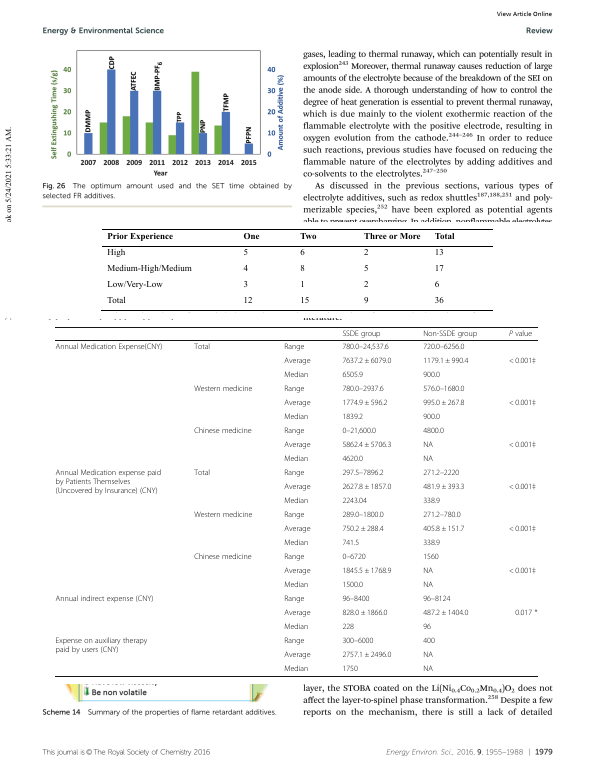borderless: (54, 325, 538, 676), (101, 227, 493, 310)
cell: (55, 468, 162, 496), (55, 636, 148, 655), (55, 342, 163, 352), (55, 594, 154, 604), (106, 264, 192, 274), (106, 231, 173, 241), (193, 384, 253, 394), (193, 510, 253, 520), (362, 231, 421, 241), (193, 426, 252, 436), (193, 552, 252, 562), (106, 280, 163, 290), (341, 356, 392, 366), (341, 440, 392, 450), (341, 482, 392, 492), (341, 566, 392, 576), (341, 650, 392, 660), (422, 329, 478, 338), (341, 342, 390, 352), (422, 356, 469, 366), (341, 398, 388, 408), (341, 608, 388, 618), (422, 608, 469, 618), (341, 524, 385, 534), (422, 342, 465, 352), (341, 384, 384, 394), (422, 384, 465, 394), (422, 398, 465, 408), (341, 468, 384, 478), (422, 482, 465, 492), (341, 510, 384, 520), (422, 524, 465, 534), (422, 510, 461, 520), (422, 468, 460, 478), (341, 329, 381, 338), (341, 426, 377, 436), (341, 636, 374, 646), (508, 356, 537, 366), (508, 398, 537, 408), (508, 440, 537, 450), (508, 482, 537, 492), (508, 524, 537, 534), (508, 566, 537, 576), (341, 594, 370, 604), (422, 594, 451, 604), (283, 356, 311, 366), (283, 398, 311, 408), (283, 440, 311, 450), (283, 482, 311, 492), (283, 524, 311, 534), (283, 566, 311, 576), (283, 608, 311, 618), (283, 650, 311, 660), (341, 496, 368, 506), (283, 370, 309, 380), (283, 412, 309, 422), (283, 454, 309, 464), (283, 496, 309, 506), (283, 538, 309, 548), (341, 552, 367, 562), (283, 580, 309, 590), (283, 622, 309, 632), (283, 664, 309, 674), (514, 608, 538, 618), (341, 370, 364, 380), (341, 412, 364, 422), (422, 426, 445, 436), (341, 454, 364, 464), (341, 580, 364, 590), (508, 329, 533, 338), (433, 231, 455, 241), (283, 342, 305, 352), (283, 384, 305, 394), (283, 426, 305, 436), (283, 468, 305, 478), (283, 510, 305, 520), (283, 552, 305, 562), (283, 594, 305, 604), (283, 636, 305, 646), (106, 248, 126, 258), (106, 296, 126, 306), (422, 370, 441, 380), (422, 412, 441, 422), (422, 496, 441, 506), (341, 538, 360, 548), (422, 538, 441, 548), (242, 231, 260, 241), (299, 231, 317, 241), (193, 342, 211, 352), (193, 468, 211, 478), (422, 552, 440, 562), (341, 664, 359, 674), (341, 622, 355, 632), (422, 636, 436, 646), (422, 440, 434, 450), (422, 454, 434, 464), (422, 566, 434, 576), (422, 580, 434, 590), (422, 650, 434, 660), (422, 664, 434, 674), (433, 248, 444, 258), (433, 264, 444, 274), (242, 296, 253, 306), (299, 296, 310, 306), (433, 296, 444, 306), (422, 622, 432, 632), (362, 248, 369, 258), (362, 264, 369, 274), (362, 280, 369, 290), (433, 280, 440, 290), (362, 296, 369, 306), (242, 248, 248, 258), (299, 248, 305, 258), (242, 264, 248, 274), (299, 264, 305, 274), (242, 280, 248, 290), (299, 280, 305, 290)
